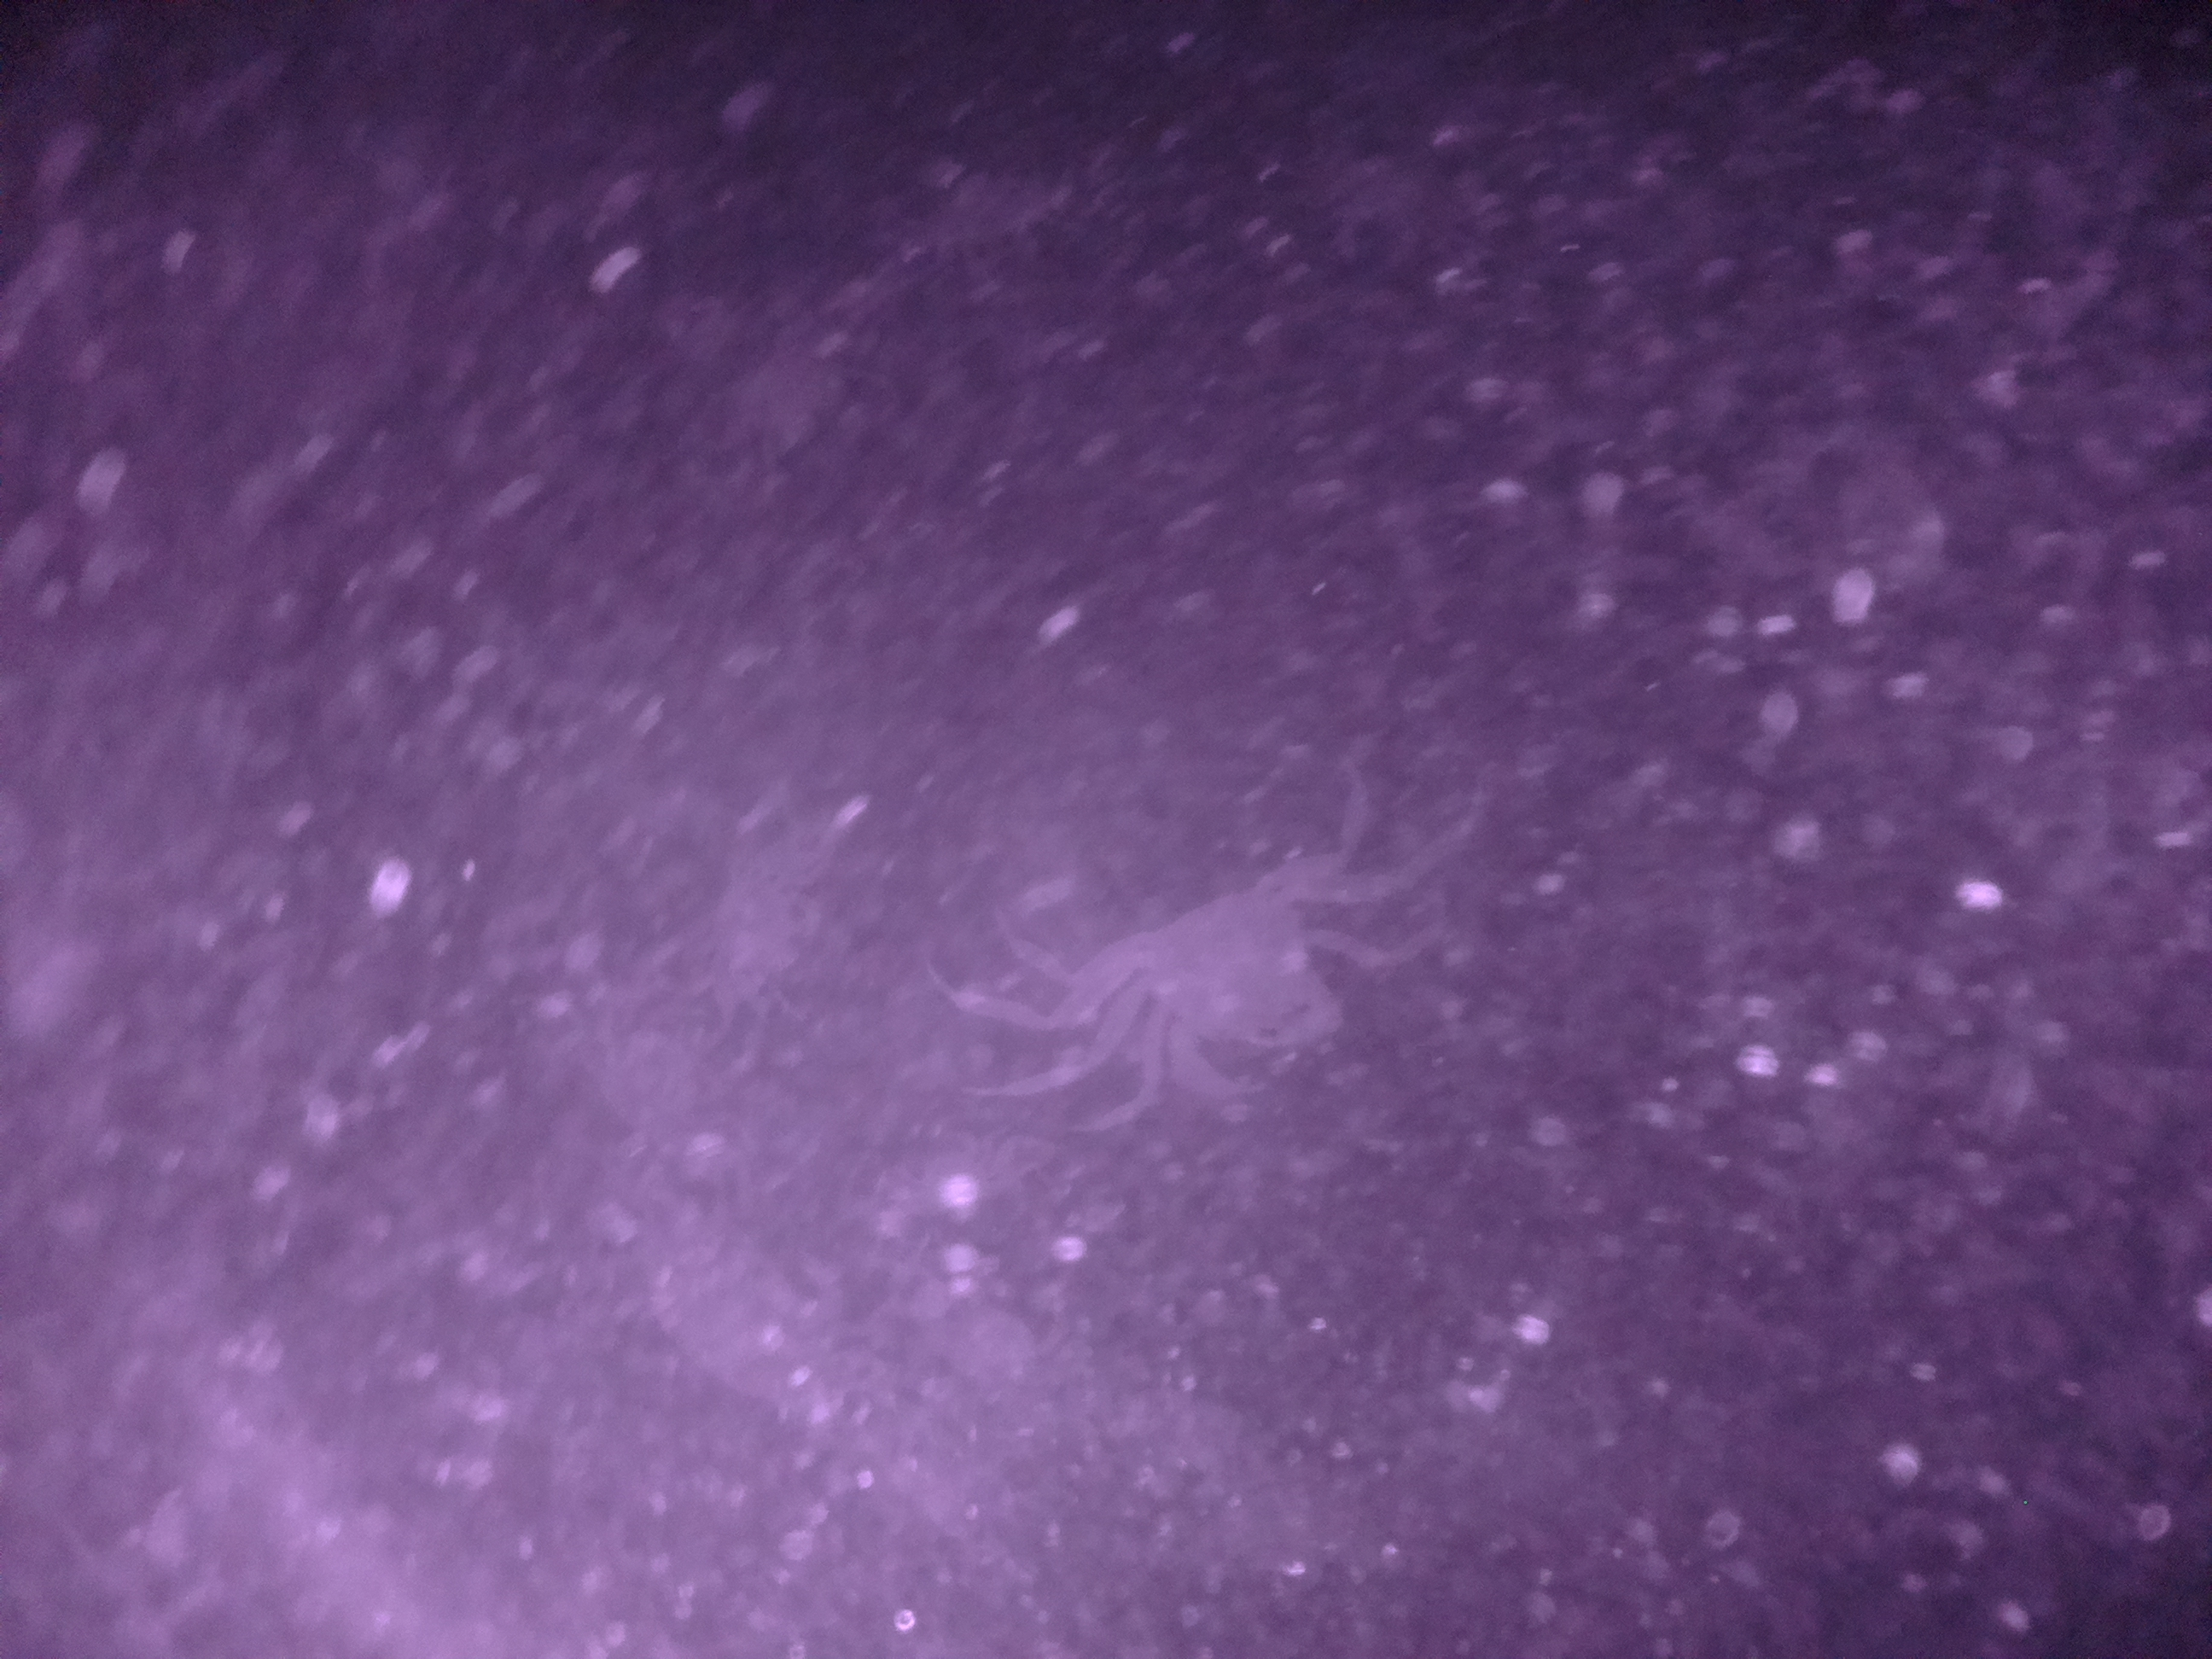Crab: (1052, 842, 1362, 1129)
